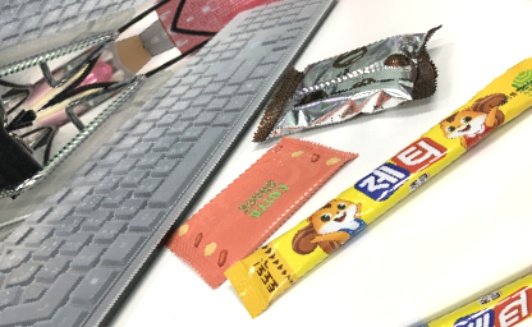jt: (202, 63, 532, 327)
mon: (225, 0, 475, 192)
pota: (140, 105, 382, 305)
